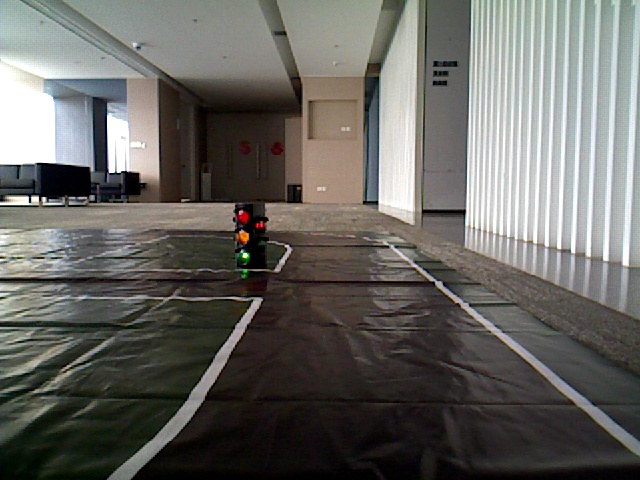green: (234, 207, 254, 261)
